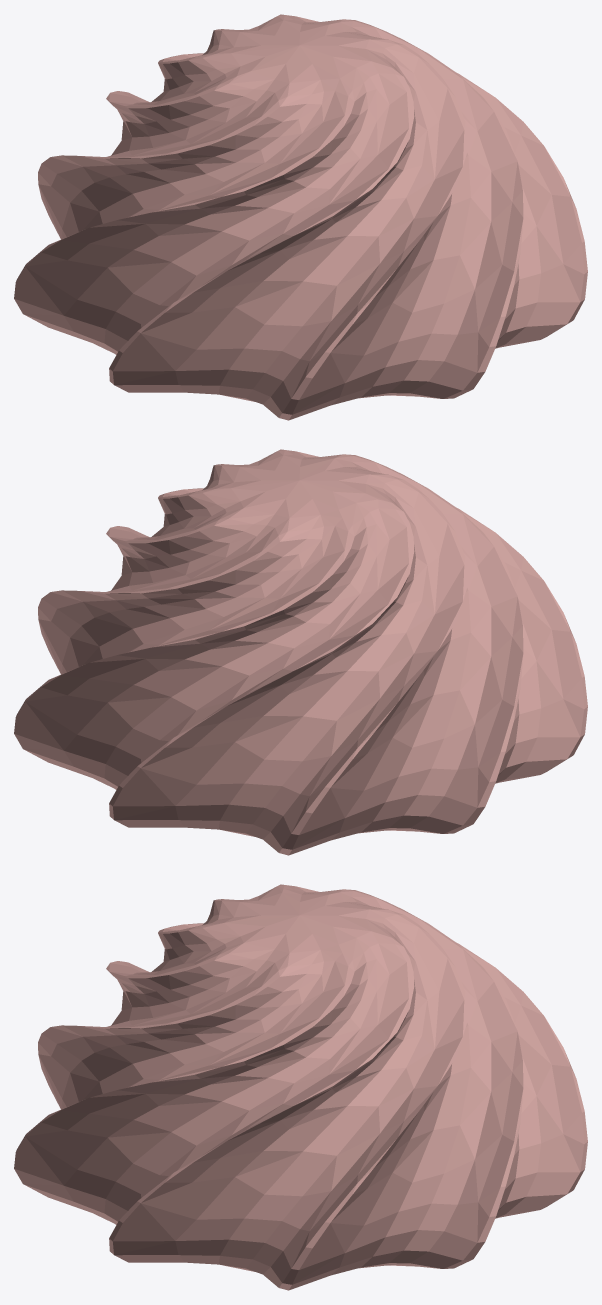
The model's file is swirl1.glb.
3 views of the same model, one above another, from view 1: azimuth 30°, elevation 25°; view 2: azimuth 150°, elevation 25°; view 3: azimuth 270°, elevation 25° (orthographic).
Visible parts, largest first — view 1: swirl; view 2: swirl; view 3: swirl.
Boxes of the visible parts, left/top/right/bottom form: swirl: left=14, top=14, right=587, bottom=420; swirl: left=14, top=449, right=587, bottom=855; swirl: left=14, top=884, right=587, bottom=1290.
Size of the model in its own units: 1.74 by 1 by 1.76.
